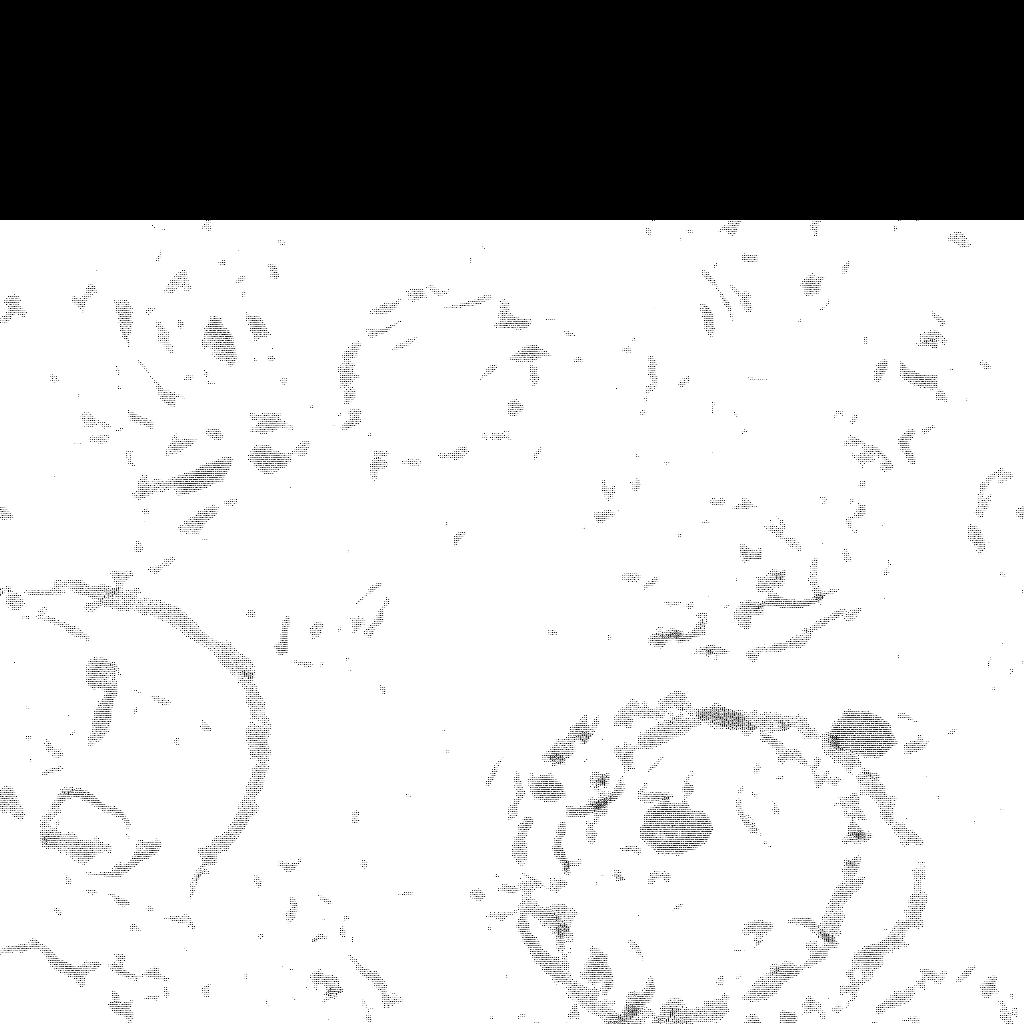axone: (635, 795, 719, 858), (820, 705, 900, 764)
